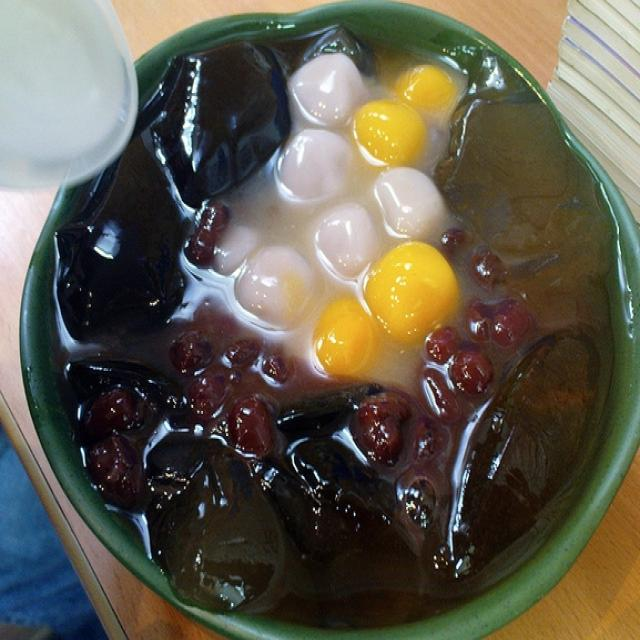蛋糕甜品: (28, 15, 611, 631)
